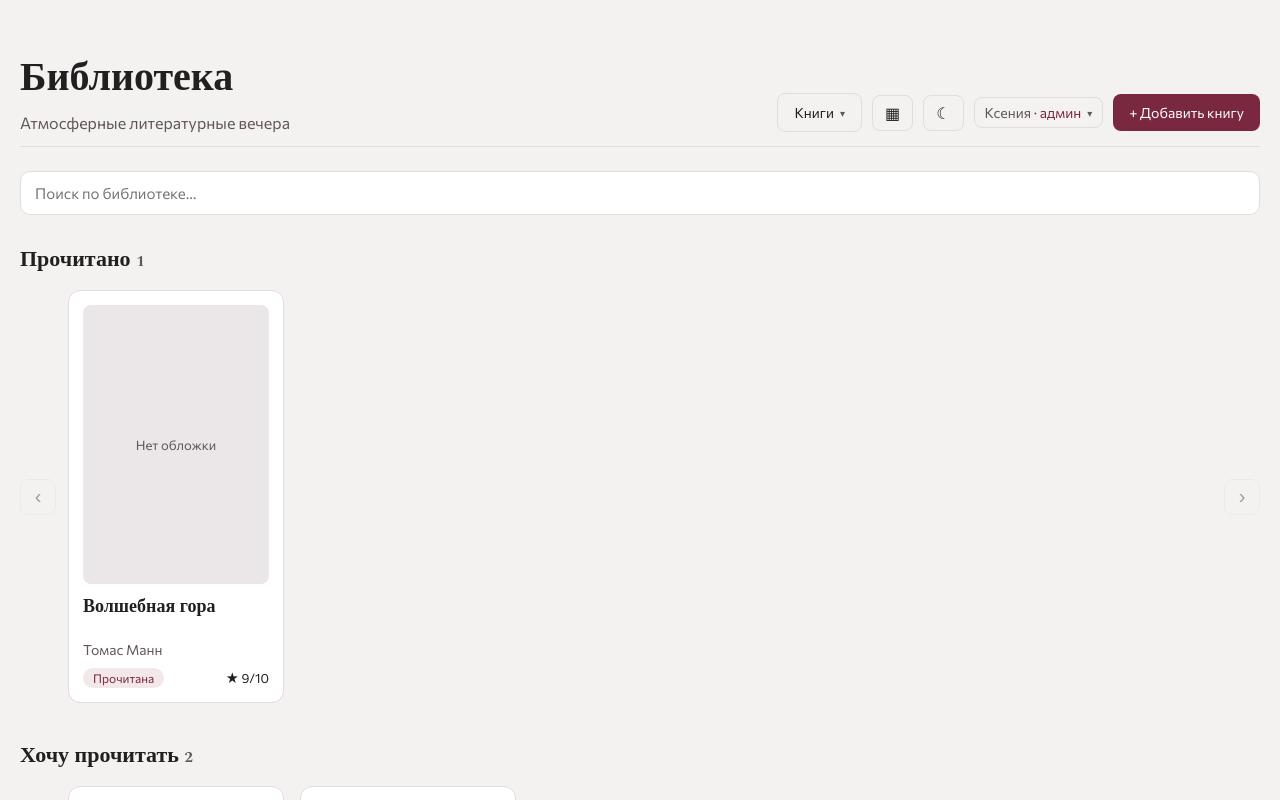
Test case: Esc закрывает меню и возвращает фокус на кнопку
Check: the heading "Волшебная гора" is shown, box [83,593,215,620]
Click the button "Книги ▾": click(820, 112) [777,93,862,132]
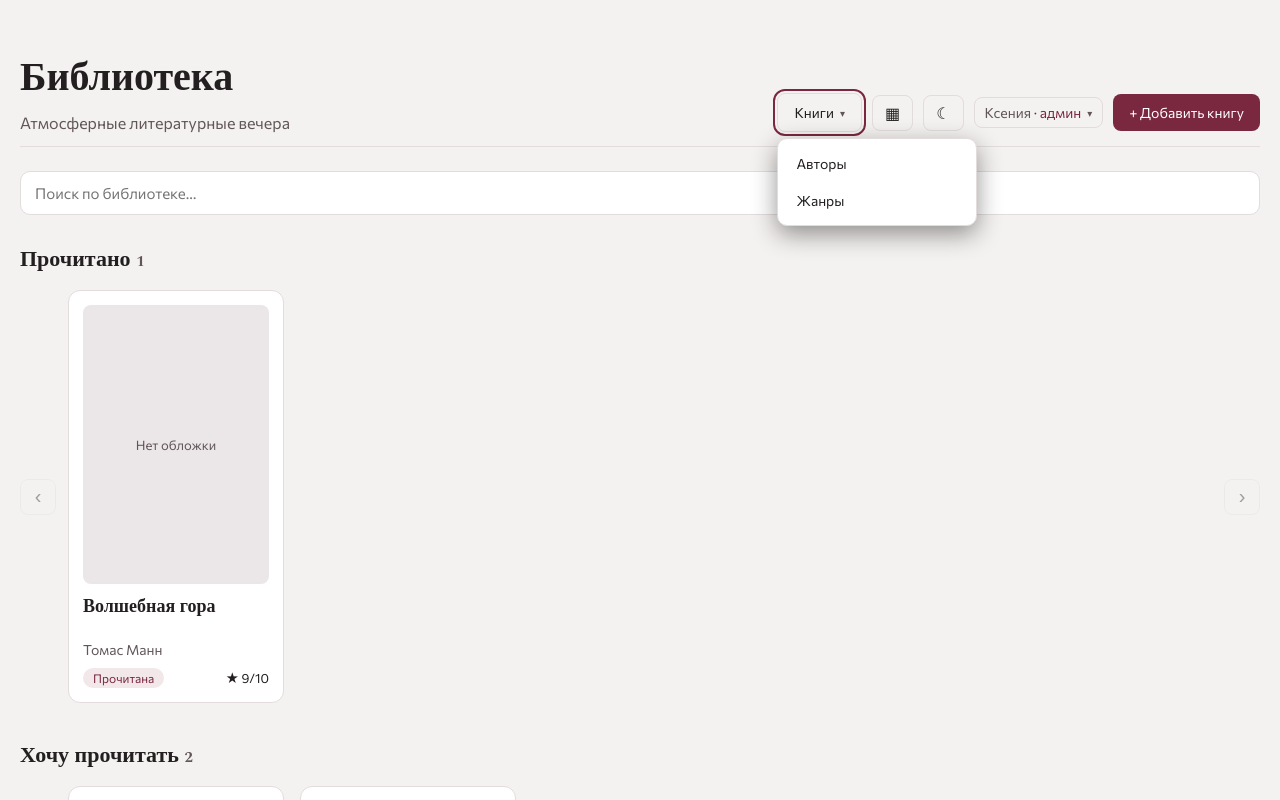
Press Escape
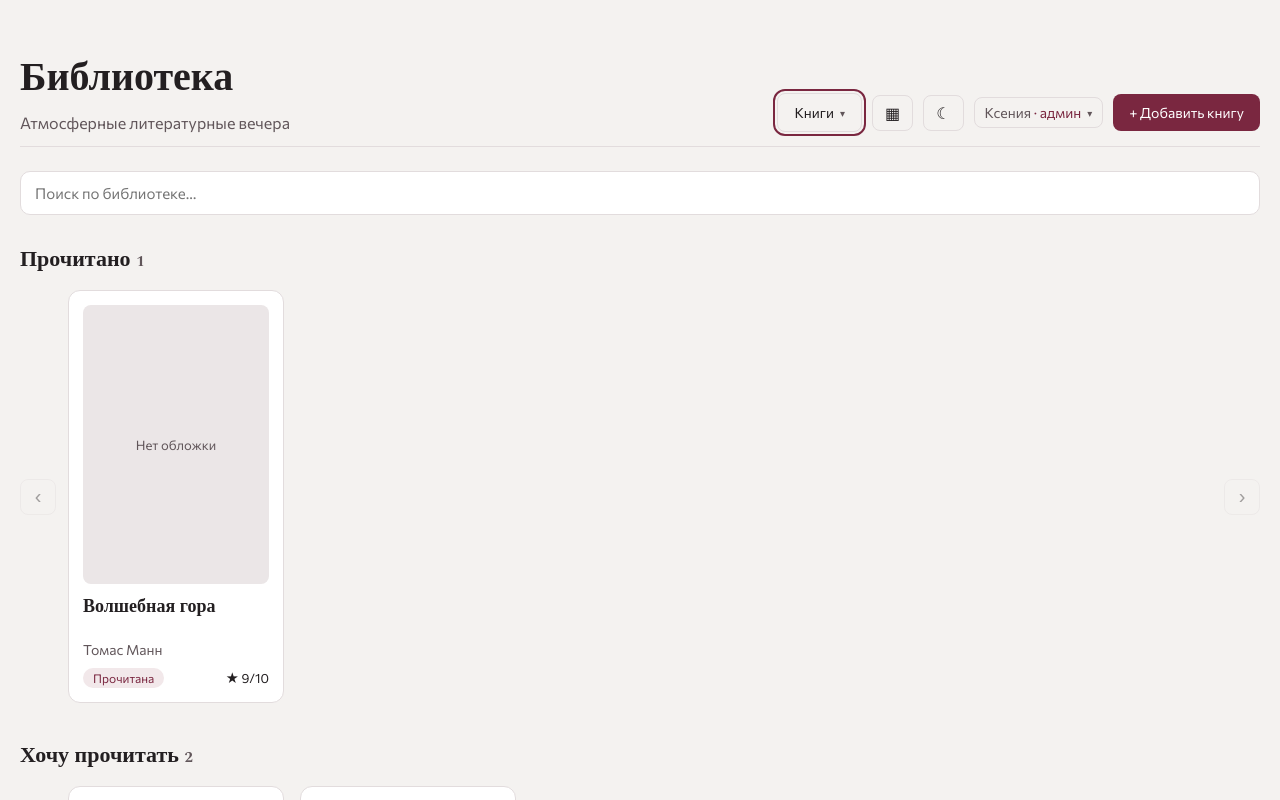
Check: the menu item "Авторы" is gone
